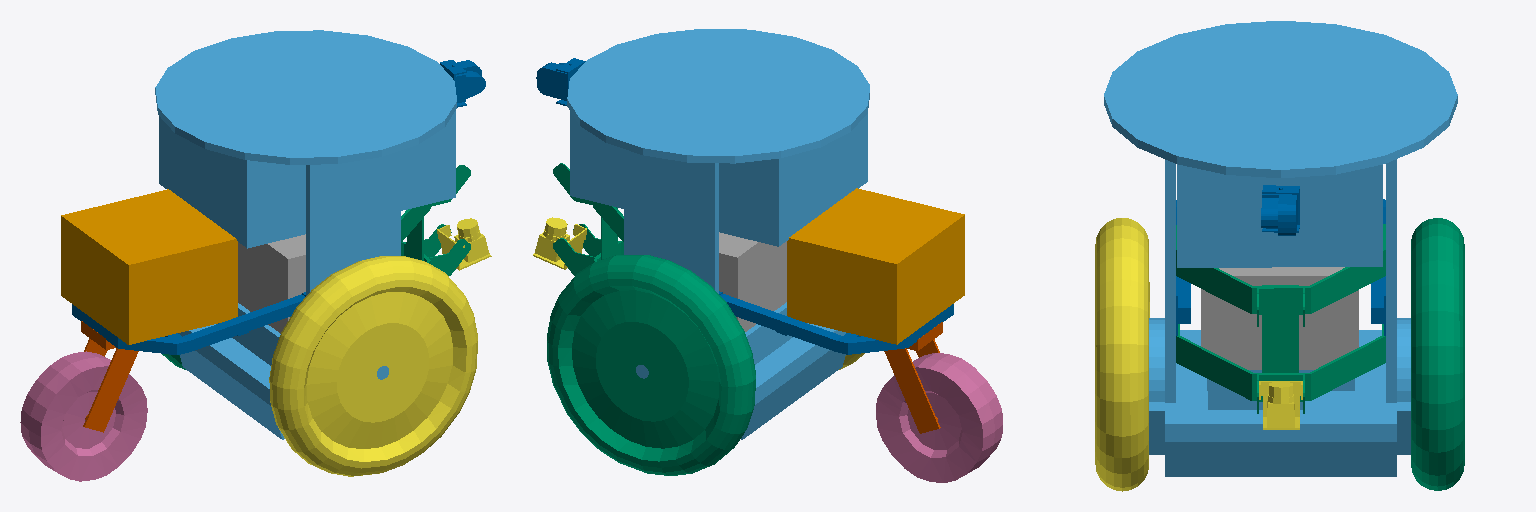
The robot description file, URDF, robot "base":
<?xml version="1.0"?>
<robot name="base"
       xmlns:sensor="http://playerstage.sourceforge.net/gazebo/xmlschema/#sensor" 
       xmlns:controller="http://playerstage.sourceforge.net/gazebo/xmlschema/#controller"
       xmlns:xacro="http://ros.org/wiki/fixme"
       xmlns:interface="http://playerstage.sourceforge.net/gazebo/xmlschema/#interface">>  

<!-- JOINT LIMIT VALUES FOR EFFORT AND VELOCITY NEED TO BE ADDED FOR REVOLUTE AND CONTINUOUS JOINTS -->

  <!-- base_footprint is a fictitious link(frame) that is on the ground right below base_link origin,
       navigation stack dedpends on this frame -->
  <link name="base_footprint">
    <inertial>
      <mass value="0.000001" />
      <origin xyz="0 0 0" />
      <inertia ixx="0.01" ixy="0.0" ixz="0.0"
               iyy="0.01" iyz="0.0" izz="0.01" />
    </inertial>
    <visual>
      <origin xyz="0 0 0" rpy="0 0 0" />
      <geometry>
        <box size="0.0 0.0 0.0" />
      </geometry>
      
      <material name="Green" />
    </visual>
    <collision>
      <!-- represent base collision with a simple rectangular model, positioned by base_size_z s.t. top
           surface of the collision box matches the top surface of the PR2 base -->
      <origin xyz="0 0 0" rpy="0 0 0" />
      <geometry>
        <box size="0.00 0.00 0.00" />
      </geometry>
    </collision>
  </link>

  <!-- Base -->

  <!-- Links -->
  <link name="base_link">        
    <inertial>
      <origin xyz="0 -0.3 0" rpy="0 0 0" />
      <mass value="90.72"/>
      <inertia ixx="1.2285"  ixy="0"  ixz="0" iyy="1.961064" iyz="0" izz="1.337364" />
    </inertial>

    <visual>
      <origin xyz="0 0 0" rpy="0 0 0" />
      <geometry name="segway_base_geom">
        <mesh filename="package://segway_robot/meshes/segway_base.stl" />
      </geometry>
      <material name="Blue" />
    </visual>    

    <collision>
      <origin xyz="0 0 0" rpy="0 0 0" />
      <geometry name="segway_base_collision_geom">
      <mesh filename="package://segway_robot/meshes/convex/segway_base_convex.stlb" />
      </geometry>
    </collision>

  </link>

  <link name="segway_left_wheel">        
    <inertial>
      <origin xyz="0 0 0" rpy="0 0 0" />
      <mass value="3.87"/>
      <inertia ixx="0.0852"  ixy="0"  ixz="0" iyy="0.0852" iyz="0" izz="0.1654" />
    </inertial>

    <visual>
      <origin xyz="0 0 0" rpy="0 0 0" />
      <geometry name="segway_left_wheel_geom">
        <mesh filename="package://segway_robot/meshes/segway_wheel.stl" />
      </geometry>
      <material name="Red" />
    </visual>    

    <collision>
      <origin xyz="0 0 0" rpy="0 0 0" />
      <geometry name="segway_left_wheel_collision_geom">
      	<cylinder radius="0.2365" length="0.093"/>
      </geometry>
    </collision>

  </link>

  <link name="segway_right_wheel">        
    <inertial>
      <origin xyz="0 0 0" rpy="0 0 0" />
      <mass value="3.87"/>
      <inertia ixx="0.0852"  ixy="0"  ixz="0" iyy="0.0852" iyz="0" izz="0.1654" />
    </inertial>

    <visual>
      <origin xyz="0 0 0" rpy="0 0 0" />
      <geometry name="segway_right_wheel_geom">
        <mesh filename="package://segway_robot/meshes/segway_wheel.stl"/>
      </geometry>
      <material name="Red" />
    </visual>    

    <collision>
      <origin xyz="0 0 0" rpy="0 0 0" />
      <geometry name="segway_right_wheel_collision_geom">
      	<cylinder radius="0.2365" length="0.093"/>
      </geometry>
    </collision>

  </link>

  <link name="segway_trailer">
    <inertial>
      <origin xyz="0.15 0.075 0" rpy="0 0 0" />
      <mass value="34.54"/>
      <inertia ixx="0.288"  ixy="0"  ixz="0" iyy="0.547" iyz="0" izz="0.446" />
    </inertial>

    <visual>
      <origin xyz="0 0 0" rpy="0 0 0" />
      <geometry name="segway_trailer-geom">	  
          <mesh filename="package://segway_robot/meshes/trailer.stl" />
      </geometry>
      <material name="Green" />
    </visual>

    <collision>
      <origin xyz="0 0 0" rpy="0 0 0" />
      <geometry name="segway_trailer_collision_geom">
        <mesh filename="package://segway_robot/meshes/convex/trailer_convex.stlb" />
      </geometry>
    </collision>

  </link>

  <link name="segway_trailer_wheel_caster">
    <inertial>
      <origin xyz="0 0 0" rpy="0 0 0" />
      <mass value="1.2"/>
      <inertia ixx="0.01"  ixy="0"  ixz="0" iyy="0.01" iyz="0" izz="0.01" />
    </inertial>

    <visual>
      <origin xyz="0 0 0" rpy="0 0 0" />
      <geometry name="segway_trailer_wheel_caster-geom">	  
          <mesh filename="package://segway_robot/meshes/trailer_wheel_caster.stl" />
      </geometry>
      <material name="Blue" />
    </visual>

    <collision>
      <origin xyz="0 0 0" rpy="0 0 0" />
      <geometry name="segway_trailer_wheel_caster_collision_geom">
        <mesh filename="package://segway_robot/meshes/convex/trailer_wheel_caster_convex.stlb" />
      </geometry>
    </collision>

  </link>

  <link name="segway_trailer_wheel">
    <inertial>
      <origin xyz="0 0 0" rpy="0 0 0" />
      <mass value="2.5"/>
      <inertia ixx="0.042"  ixy="0"  ixz="0" iyy="0.042" iyz="0" izz="0.082" />
    </inertial>

    <visual>
      <origin xyz="0 0 0" rpy="0 0 0" />
      <geometry name="segway_trailer_wheel-geom">	  
          <mesh filename="package://segway_robot/meshes/trailer_wheel.stl" />
      </geometry>
      <material name="Red" />
    </visual>

    <collision>
      <origin xyz="0 0 0" rpy="0 0 0" />
      <geometry name="segway_trailer_wheel_collision_geom">
        <!-- <mesh filename="package://segway_robot/meshes/convex/trailer_wheel_convex.stlb" /> -->
        <cylinder radius="0.1285" length="0.097"/>
      </geometry>
    </collision>

  </link>

  <link name="battery_one">        
    <inertial>
      <origin xyz="0 0 0" rpy="0 0 0" />
      <mass value="22.68"/>
      <inertia ixx="0.201"  ixy="0"  ixz="0" iyy="0.263" iyz="0" izz="0.182" />
    </inertial>

    <visual>
      <origin xyz="0 0 0" rpy="0 0 0" />
      <geometry name="battery_one_geom">
        <!-- <mesh filename="package://segway_robot/meshes/battery_one.stl" /> -->
	<box size = "0.254 0.178 0.273" />
      </geometry>
      <material name="Red" />
    </visual>    

    <collision>
      <origin xyz="0 0 0" rpy="0 0 0" />
      <geometry name="battery_one_collision_geom">
      	<!-- <mesh filename="package://segway_robot/meshes/convex/battery_one_convex.stlb" /> -->
	<box size = "0.254 0.178 0.273" />
      </geometry>
    </collision>

  </link>

  <link name="battery_two">        
    <inertial>
      <origin xyz="0 0 0" rpy="0 0 0" />
      <mass value="22.68"/>
      <inertia ixx="0.201"  ixy="0"  ixz="0" iyy="0.263" iyz="0" izz="0.182" />
    </inertial>

    <visual>
      <origin xyz="0 0 0" rpy="0 0 0" />
      <geometry name="battery_two_geom">
        <!-- <mesh filename="package://segway_robot/meshes/battery_two.stl" /> -->
	<box size = "0.254 0.178 0.273" />
      </geometry>
      <material name="Red" />
    </visual>    

    <collision>
      <origin xyz="0 0 0" rpy="0 0 0" />
      <geometry name="battery_two_collision_geom">
 	<!-- <mesh filename="package://segway_robot/meshes/convex/battery_two_convex.stlb" /> -->
	<box size = "0.254 0.178 0.273" />
      </geometry>
    </collision>

  </link>

  <link name="computer">        
    <inertial>
      <origin xyz="0 0 0" rpy="0 0 0" />
      <mass value="4.54"/>
      <inertia ixx="0.063"  ixy="0"  ixz="0" iyy="0.136" iyz="0" izz="0.103" />
    </inertial>

    <visual>
      <origin xyz="0 0 0" rpy="0 0 0" />
      <geometry name="computer_geom">
        <!-- <mesh filename="package://segway_robot/meshes/computer.stl" /> -->
	<box size = "0.484 0.198 0.356" />
      </geometry>
      <material name="Green" />
    </visual>    

    <collision>
      <origin xyz="0 0 0" rpy="0 0 0" />
      <geometry name="segway_base_collision_geom">
      	<!-- <mesh filename="package://segway_robot/meshes/convex/computer_convex.stlb" /> -->
	<box size = "0.484 0.198 0.356" />
      </geometry>
    </collision>

  </link>


  <link name="segway_laser_bracket">
    <inertial>
      <origin xyz="0 0 0" rpy="0 0 0" />
      <mass value="2.27"/>
      <inertia ixx="0.01"  ixy="0"  ixz="0" iyy="0.01" iyz="0" izz="0.01" />
    </inertial>

    <visual>
      <origin xyz="0 0 0" rpy="0 0 0" />
      <geometry name="segway_laser_bracket-geom">
          <mesh filename="package://segway_robot/meshes/laser_bracket.stl" />
      </geometry>
      <material name="Red" />
    </visual>

    <collision>
      <origin xyz="0 0 0" rpy="0 0 0" />
      <geometry name="segway_laser_bracket_collision_geom">
      <mesh filename="package://segway_robot/meshes/convex/laser_bracket_convex.stlb" />
      </geometry>
    </collision>

  </link>

  <link name="R283_hokuyo_laser1">
    <inertial>
      <origin xyz="-0.025 -0.017 0" rpy="0 0 0" />
      <mass value="0.37"/>
      <inertia ixx="0.0004"  ixy="0"  ixz="0" iyy="0.0004" iyz="0" izz="0.0004" />
    </inertial>

    <visual>
      <origin xyz="0 0 0" rpy="0 0 0" />
      <geometry name="R283_hokuyo_laser1-geom">
          <mesh filename="package://segway_robot/meshes/R283_hokuyo_laser1.stl" />
      </geometry>
      <material name="Blue" />
    </visual>

    <collision>
      <origin xyz="0 0 0" rpy="0 0 0" />
      <geometry name="R283_hokuyo_laser1_collision_geom">
      <mesh filename="package://segway_robot/meshes/convex/R283_hokuyo_laser1_convex.stlb" />
      </geometry>
    </collision>

  </link>

  <link name="R313_hokuyo_laser2">
    <inertial>
      <origin xyz="-0.023 0 0" rpy="3.14159 0 0" />
      <mass value="0.37"/>
      <inertia ixx="0.0004"  ixy="0"  ixz="0" iyy="0.0004" iyz="0" izz="0.0004" />
    </inertial>

    <visual>
      <origin xyz="0 0 0" rpy="3.14159 0 0" />
      <geometry name="R313_hokuyo_laser2-geom">
          <mesh filename="package://segway_robot/meshes/R313_hokuyo_laser2.stl" />
      </geometry>
      <material name="Blue" />
    </visual>

    <collision>
      <origin xyz="0 0 0" rpy="3.14159 0 0" />
      <geometry name="R283_hokuyo_laser1_collision_geom">
      <mesh filename="package://segway_robot/meshes/convex/R313_hokuyo_laser2_convex.stlb" />
      </geometry>
    </collision>

  </link>

  <!-- Joints -->

  <joint name="base_footprint_joint" type="fixed">
    <origin xyz="0 0 0.55" rpy="1.57 0 3.14159" />
    <child link="base_link" />
    <parent link="base_footprint"/>
  </joint>
  
  <joint name="segway_left_wheel_joint" type="continuous" >
    <origin xyz="-0.031 -0.353 0.272" rpy="0 0 0"/>
    <axis xyz="0 0 1"/>
    <limit effort="122" velocity="500"/>
    <parent link="base_link" />
    <child link="segway_left_wheel" />
    <calibration reference_position="0.0"/>
  </joint>

  <joint name="segway_right_wheel_joint" type="continuous" >
    <origin xyz="-0.031 -0.353 -0.272" rpy="0 3.14 0"/>    
    <axis xyz="0 0 1"/>
    <limit effort="122" velocity="500"/>
    <parent link="base_link" />
    <child link="segway_right_wheel" />
    <calibration reference_position="0.0"/>
  </joint>

  <joint name="segway_trailer_joint" type="fixed">    
    <origin xyz="0.162 -0.233 0.002" rpy="0 0 0" />
    <parent link="base_link" />
    <child link="segway_trailer" />
    <calibration reference_position="0.0"/>
  </joint>

  <joint name="segway_trailer_wheel_caster_joint" type="continuous">    
    <origin xyz="0.244 -0.038 0.002" rpy="0 0 0" />
    <axis xyz="0 1 0"/>
    <parent link="segway_trailer" />
    <child link="segway_trailer_wheel_caster" />
    <calibration reference_position="0.0"/>
  </joint>

  <joint name="segway_trailer_wheel_joint" type="continuous">    
    <origin xyz="0.076 -0.187 0.002" rpy="0 0 0" />
    <axis xyz="0 0 1"/>
    <parent link="segway_trailer_wheel_caster" />
    <child link="segway_trailer_wheel" />
    <calibration reference_position="0.0"/>
  </joint>

  <joint name="battery_one_joint" type="fixed">    
    <origin xyz="-0.037 -0.231 0" rpy="0 0 0" />
    <parent link="base_link" />
    <child link="battery_one" />
    <calibration reference_position="0.0"/>
  </joint>

  <joint name="battery_two_joint" type="fixed">    
    <origin xyz="0.171 0.074 0" rpy="0 0 0" />
    <parent link="segway_trailer" />
    <child link="battery_two" />
    <calibration reference_position="0.0"/>
  </joint>

  <joint name="computer_joint" type="fixed">    
    <origin xyz="-0.033 0.025 0" rpy="0 0 0" />
    <parent link="base_link" />
    <child link="computer" />
    <calibration reference_position="0.0"/>
  </joint>

  <joint name="segway_laser_bracket_joint" type="fixed">    
    <origin xyz="-0.213 -0.2 0.002" rpy="0 0 0" />
    <parent link="base_link" />
    <child link="segway_laser_bracket" />
    <calibration reference_position="0.0"/>
  </joint>

  <joint name="R283_hokuyo_laser1_joint" type="revolute">    
    <origin xyz="-0.162 -0.062 0" rpy="0 0 -0.1848" />
    <axis xyz="0 0 1"/>
    <limit lower="-1.047" upper="1.047" effort="50" velocity="50"/>
    <parent link="segway_laser_bracket" />
    <child link="R283_hokuyo_laser1" />
    <calibration reference_position="0.0"/>
  </joint>

  <joint name="R313_hokuyo_laser2_joint" type="revolute">    
    <origin xyz="-0.162 0.283 0" rpy="1.57 -0.05 0" />
    <axis xyz="0 0 1"/>
    <limit lower="-1.047" upper="1.047" effort="50" velocity="50"/>
    <parent link="segway_laser_bracket" />
    <child link="R313_hokuyo_laser2" />
    <calibration reference_position="0.0"/>
  </joint>

  <!-- Gazebo uses this to color -->

  <gazebo reference="base_link">
    <material value="Gazebo/Blue"/>
    <turnGravityOff>false</turnGravityOff>
  </gazebo>

  <gazebo reference="segway_left_wheel">
    <material value="Gazebo/Red"/>
    <turnGravityOff>false</turnGravityOff>
  </gazebo>

  <gazebo reference="segway_right_wheel">
    <material value="Gazebo/Red"/>
    <turnGravityOff>false</turnGravityOff>
  </gazebo>

  <gazebo reference="segway_trailer">
    <material value="Gazebo/Green"/>
    <turnGravityOff>false</turnGravityOff>
  </gazebo>

  <gazebo reference="segway_trailer_wheel_caster">
    <material value="Gazebo/Blue"/>
    <turnGravityOff>false</turnGravityOff>
  </gazebo>

  <gazebo reference="segway_trailer_wheel">
    <material value="Gazebo/Red"/>
    <turnGravityOff>false</turnGravityOff>
  </gazebo>

  <gazebo reference="battery_one">
    <material value="Gazebo/Red"/>
    <turnGravityOff>false</turnGravityOff>
  </gazebo>

  <gazebo reference="battery_two">
    <material value="Gazebo/Red"/>
    <turnGravityOff>false</turnGravityOff>
  </gazebo>

  <gazebo reference="computer">
    <material value="Gazebo/Green"/>
    <turnGravityOff>false</turnGravityOff>
  </gazebo>

  <gazebo reference="segway_laser_bracket">
    <material value="Gazebo/Green"/>
    <turnGravityOff>false</turnGravityOff>
  </gazebo>

  <gazebo reference="R283_hokuyo_laser1">
    <material value="Gazebo/Red"/>
    <turnGravityOff>false</turnGravityOff>
  </gazebo>

  <gazebo reference="R313_hokuyo_laser2">
    <material value="Gazebo/Red"/>
    <turnGravityOff>false</turnGravityOff>
  </gazebo>

  <!-- Transmits the joints -->

  <transmission name="segway_left_wheel_trans" type="SimpleTransmission">
    <actuator name="segway_left_wheel_motor"/>
    <joint name="segway_left_wheel_joint"/>
    <mechanicalReduction>1.0</mechanicalReduction>
  </transmission>

  <transmission name="segway_right_wheel_trans" type="SimpleTransmission">
    <actuator name="segway_right_wheel_motor"/>
    <joint name="segway_right_wheel_joint"/>
    <mechanicalReduction>1.0</mechanicalReduction>
  </transmission>

  <transmission name="segway_trailer_wheel_caster_trans" type="SimpleTransmission">
    <actuator name="segway_trailer_wheel_caster_motor"/>
    <joint name="segway_trailer_wheel_caster_joint"/>
    <mechanicalReduction>1.0</mechanicalReduction>
  </transmission>

  <transmission name="segway_trailer_wheel_trans" type="SimpleTransmission">
    <actuator name="segway_trailer_wheel_motor"/>
    <joint name="segway_trailer_wheel_joint"/>
    <mechanicalReduction>1.0</mechanicalReduction>
  </transmission>

  <transmission name="R283_hokuyo_laser1_trans" type="SimpleTransmission">
    <actuator name="R283_hokuyo_laser1_motor"/>
    <joint name="R283_hokuyo_laser1_joint"/>
    <mechanicalReduction>1.0</mechanicalReduction>
  </transmission>

  <transmission name="R313_hokuyo_laser2_trans" type="SimpleTransmission">
    <actuator name="R313_hokuyo_laser2_motor"/>
    <joint name="R313_hokuyo_laser2_joint"/>
    <mechanicalReduction>1.0</mechanicalReduction>
  </transmission>

  <gazebo>
    <controller:gazebo_ros_p3d name="p3d_base_controller" plugin="libgazebo_ros_p3d.so">
      <alwaysOn>true</alwaysOn>
      <updateRate>100.0</updateRate>
      <bodyName>base_footprint</bodyName>
      <topicName>base_pose_ground_truth</topicName>
      <gaussianNoise>0.01</gaussianNoise>
      <frameName>map</frameName>
      <xyzOffsets>25.7 25.7 0</xyzOffsets> <!-- initialize odometry for fake localization-->
      <rpyOffsets>0 0 0</rpyOffsets>
      <interface:position name="p3d_base_position"/>
    </controller:gazebo_ros_p3d>
    <canonicalBody>base_footprint</canonicalBody>
  </gazebo>

</robot>

--- What the picture shows (computed from the rendered views, not written in the file) ---
The picture shows the robot from 3 angles, left to right: view 1: azimuth 30°, elevation 25°; view 2: azimuth 150°, elevation 25°; view 3: azimuth 270°, elevation 25°; orthographic projection.
Robot: base — 13 links, 12 joints (2 revolute, 4 continuous, 6 fixed); root link base_footprint; default pose: all joints at 0.
Visible links, largest first — view 1: base_link, segway_right_wheel, battery_two, computer, segway_trailer_wheel, battery_one, segway_trailer, segway_laser_bracket, segway_trailer_wheel_caster, R283_hokuyo_laser1, R313_hokuyo_laser2; view 2: base_link, segway_left_wheel, battery_two, computer, segway_trailer_wheel, battery_one, segway_trailer, segway_laser_bracket, segway_trailer_wheel_caster, R283_hokuyo_laser1, R313_hokuyo_laser2; view 3: base_link, computer, segway_right_wheel, segway_left_wheel, segway_laser_bracket, battery_one, R283_hokuyo_laser1, R313_hokuyo_laser2, segway_trailer.
Link boxes in pixels (<box>): base_link: <box>155,30,456,439</box>; segway_right_wheel: <box>269,256,477,476</box>; battery_two: <box>61,189,237,344</box>; computer: <box>159,111,455,248</box>; segway_trailer_wheel: <box>20,351,147,481</box>; battery_one: <box>238,234,305,333</box>; segway_trailer: <box>72,292,305,354</box>; segway_laser_bracket: <box>401,165,470,275</box>; segway_trailer_wheel_caster: <box>81,321,138,432</box>; R283_hokuyo_laser1: <box>437,218,491,270</box>; R313_hokuyo_laser2: <box>440,60,485,107</box>; base_link: <box>567,29,869,439</box>; segway_left_wheel: <box>547,255,755,475</box>; battery_two: <box>787,188,964,344</box>; computer: <box>570,111,867,246</box>; segway_trailer_wheel: <box>876,353,1002,482</box>; battery_one: <box>719,232,786,331</box>; segway_trailer: <box>719,291,953,354</box>; segway_laser_bracket: <box>553,163,623,275</box>; segway_trailer_wheel_caster: <box>884,322,942,433</box>; R283_hokuyo_laser1: <box>533,217,586,269</box>; R313_hokuyo_laser2: <box>536,58,585,105</box>; base_link: <box>1104,21,1457,476</box>; computer: <box>1177,164,1382,267</box>; segway_right_wheel: <box>1095,218,1149,491</box>; segway_left_wheel: <box>1411,218,1464,490</box>; segway_laser_bracket: <box>1176,224,1385,413</box>; battery_one: <box>1201,267,1358,369</box>; R283_hokuyo_laser1: <box>1259,381,1302,429</box>; R313_hokuyo_laser2: <box>1261,185,1299,235</box>; segway_trailer: <box>1176,199,1385,335</box>.
Bounding box of the posed robot: 1.05 × 0.6376 × 0.7302 m (x, y, z).
9 mesh visuals loaded from 8 distinct referenced files (8 binary STL).
